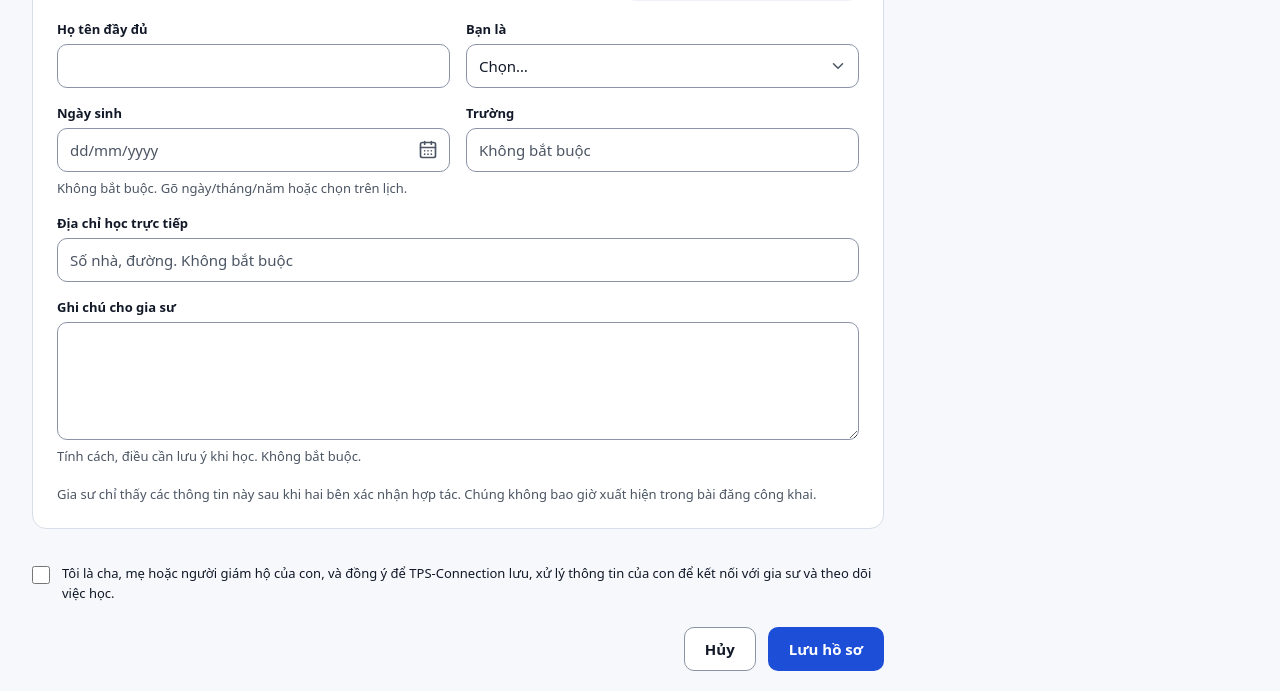
Test: new child profile › marks the fields the API rejected
(page scrolled)
Click the button "Lưu hồ sơ" at (826, 649), box [768,627,884,671]
(page scrolled)
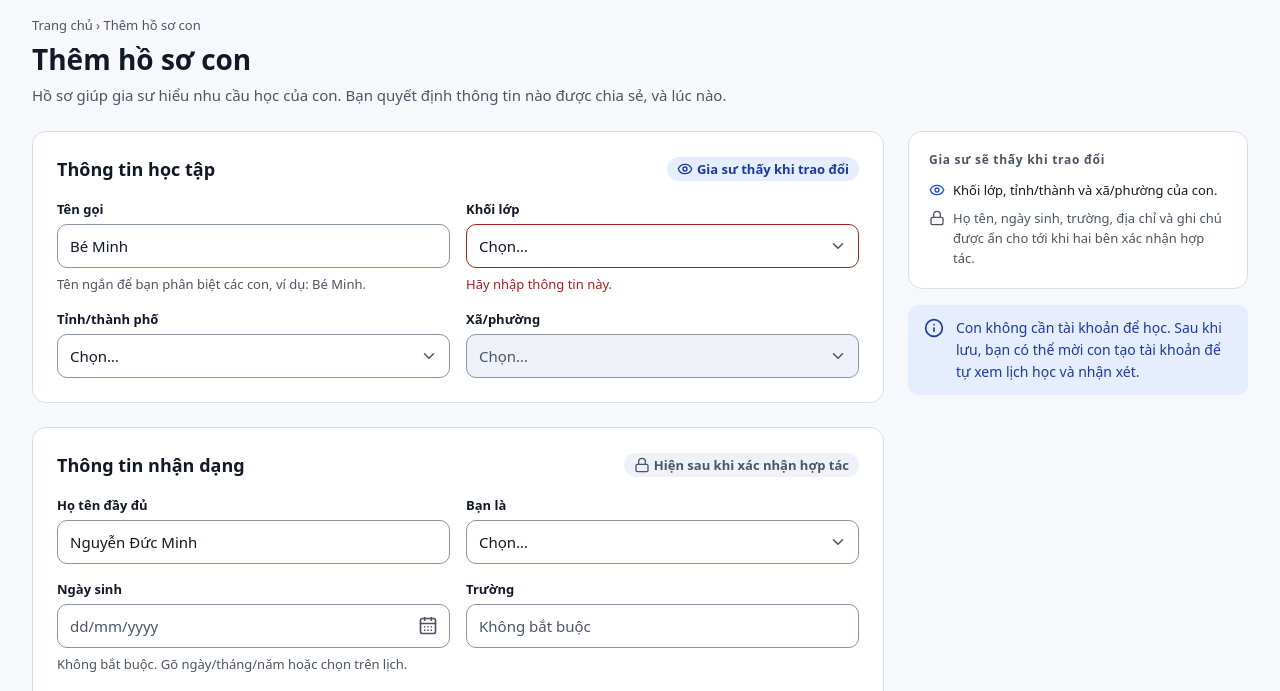
Result: the field labelled "Tên gọi" holds "Bé Minh" at [57,224,450,268]
